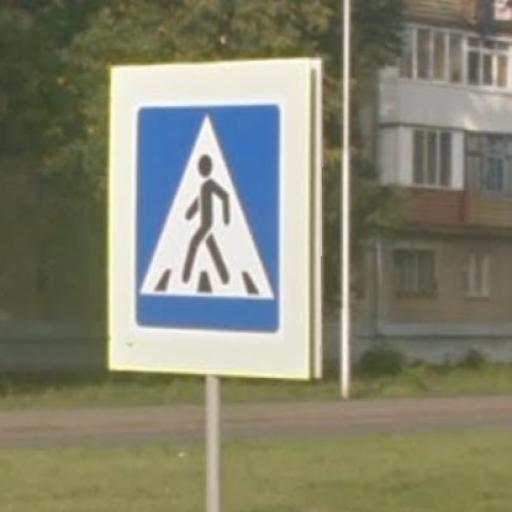traffic_sign: (107, 58, 313, 383)
